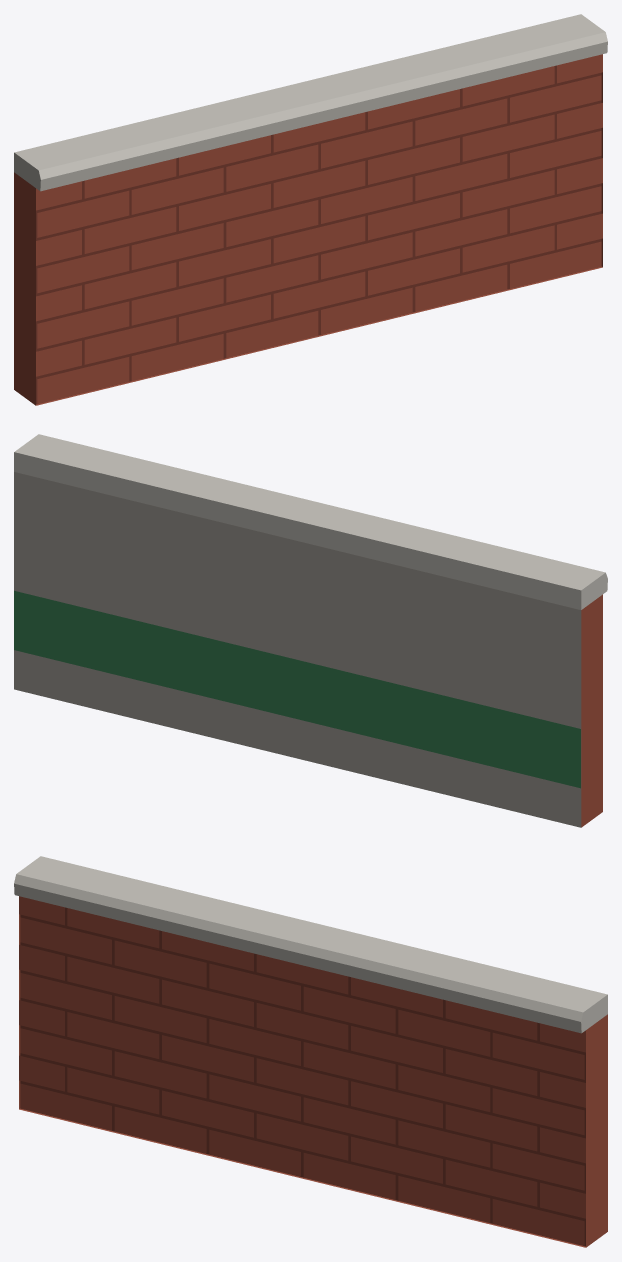
File: SC_Bld_Villa_Roof_Parapet_3m.gltf
3 renders of one model, top to bottom at view 1: azimuth 30°, elevation 25°; view 2: azimuth 150°, elevation 25°; view 3: azimuth 330°, elevation 25°, orthographic.
Visible parts, largest first — view 1: SC_Bld_Villa_Roof_Parapet_3m; view 2: SC_Bld_Villa_Roof_Parapet_3m; view 3: SC_Bld_Villa_Roof_Parapet_3m.
Boxes of the visible parts, box(x1,y1,x2,y2) form: SC_Bld_Villa_Roof_Parapet_3m: box(14, 14, 607, 405); SC_Bld_Villa_Roof_Parapet_3m: box(14, 434, 607, 827); SC_Bld_Villa_Roof_Parapet_3m: box(14, 856, 607, 1247).
Size of the model in its own units: 3 by 1.2 by 0.2465.
1 material, 1 textured.
